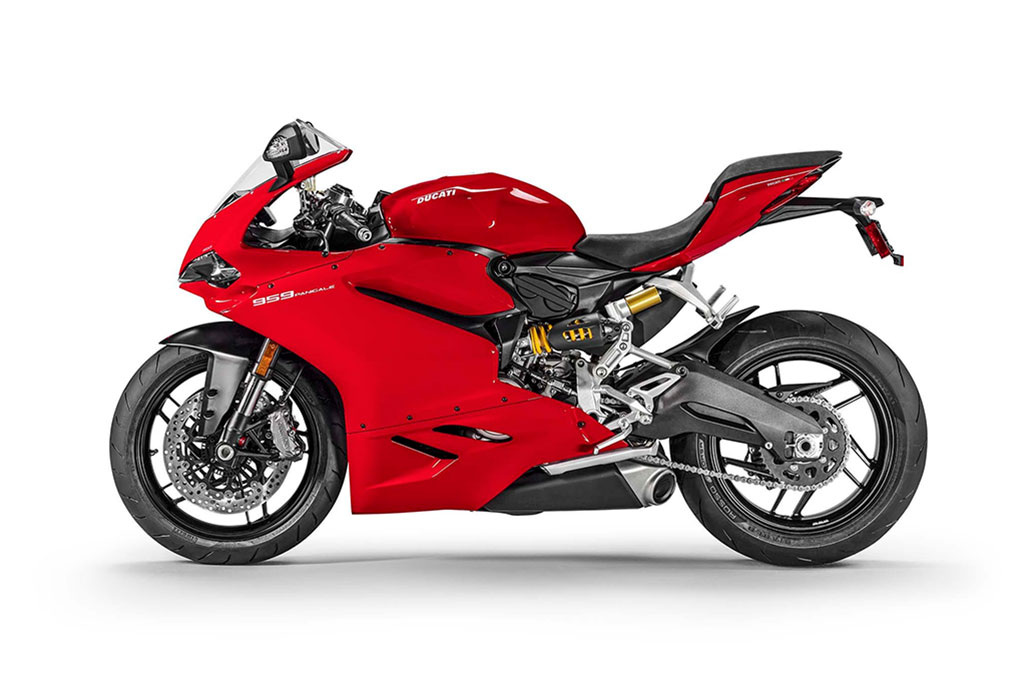motorcycle: (116, 143, 927, 569)
